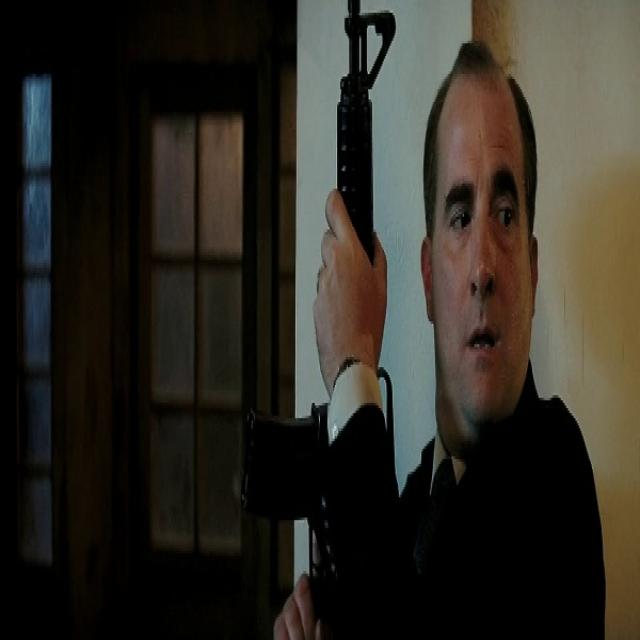rifle: (237, 1, 418, 640)
